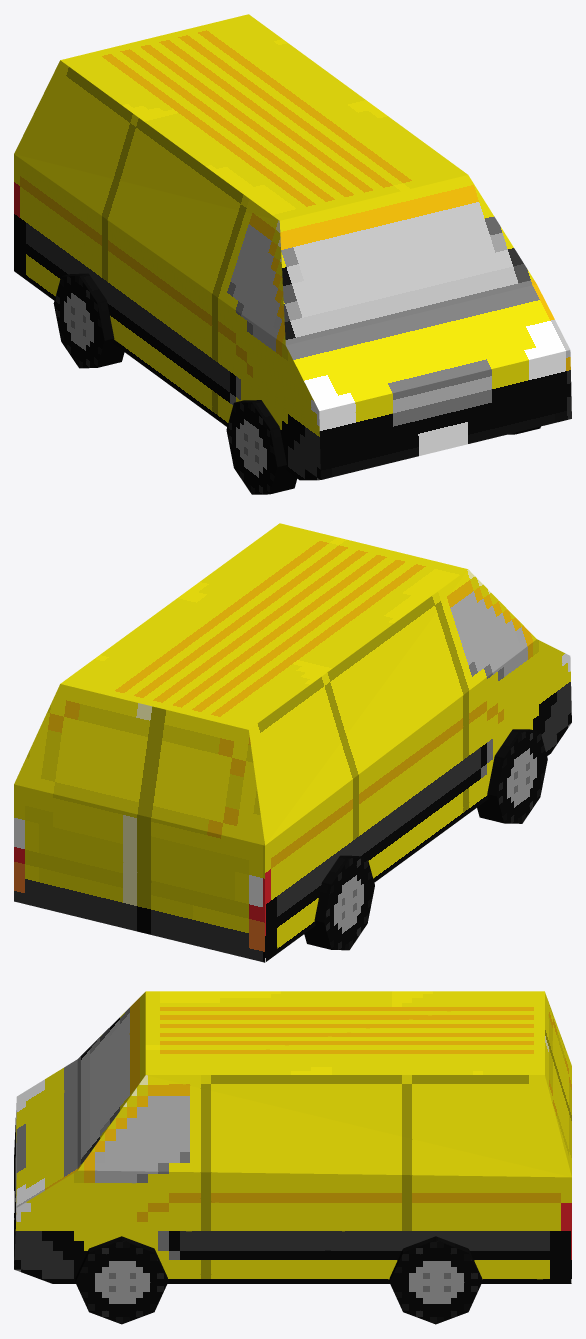
Rendered from van.gltf.
3 views of the same model, one above another, from view 1: azimuth 30°, elevation 25°; view 2: azimuth 150°, elevation 25°; view 3: azimuth 270°, elevation 25° (orthographic). The views are drawn at different scales.
Visible parts, largest first — view 1: Van; view 2: Van; view 3: Van.
Part boxes in pixels (bbox=[...]): Van: bbox=[14, 14, 571, 494]; Van: bbox=[14, 523, 571, 962]; Van: bbox=[14, 991, 571, 1324].
Bounding box in the file's own units: 1.26 × 1.13 × 2.48.
1 material, 1 textured.
